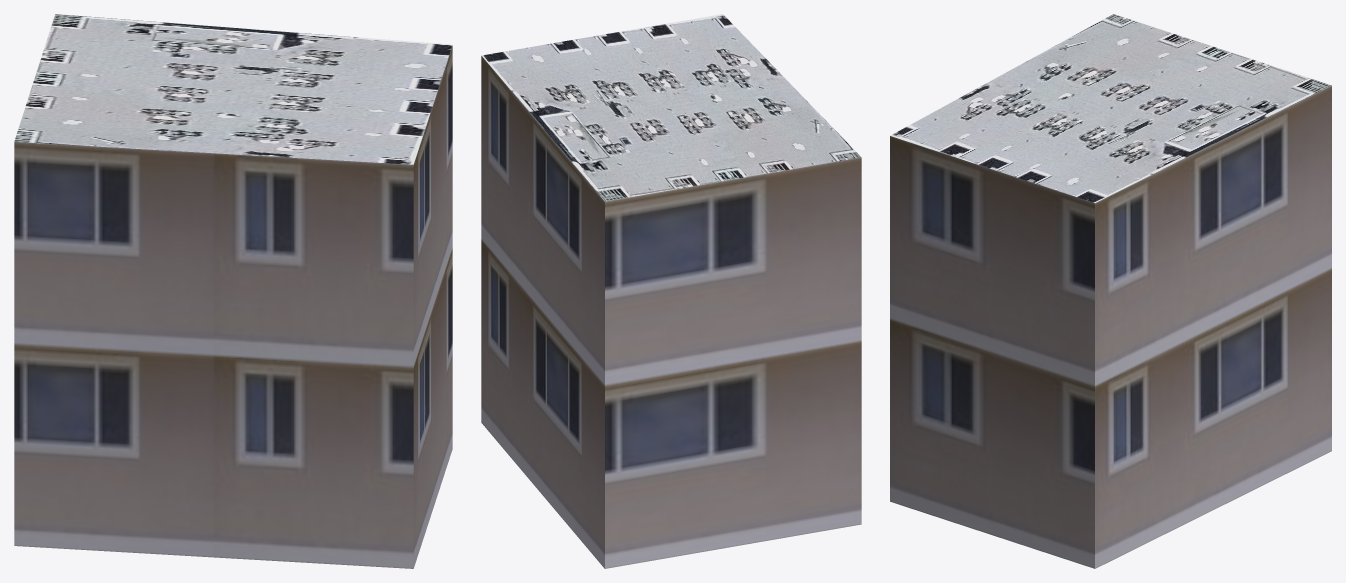
Rendered from ResTex__966.fbx.
3 views of the same model, side by side, from view 1: azimuth 30°, elevation 25°; view 2: azimuth 150°, elevation 25°; view 3: azimuth 270°, elevation 25° (orthographic). The views are drawn at different scales.
Visible parts, largest first — view 1: CityEngineMaterial_21_m, CityEngineMaterial_2_m; view 2: CityEngineMaterial_21_m, CityEngineMaterial_2_m; view 3: CityEngineMaterial_21_m, CityEngineMaterial_2_m.
Boxes of the visible parts, bbox=[...] form: CityEngineMaterial_21_m: bbox=[14, 45, 452, 568]; CityEngineMaterial_2_m: bbox=[14, 14, 452, 164]; CityEngineMaterial_21_m: bbox=[481, 56, 861, 568]; CityEngineMaterial_2_m: bbox=[482, 14, 860, 201]; CityEngineMaterial_21_m: bbox=[890, 85, 1331, 568]; CityEngineMaterial_2_m: bbox=[890, 14, 1331, 202].
Size of the model in its own units: 6.66 by 6 by 6.57.
2 materials, 2 textured.
